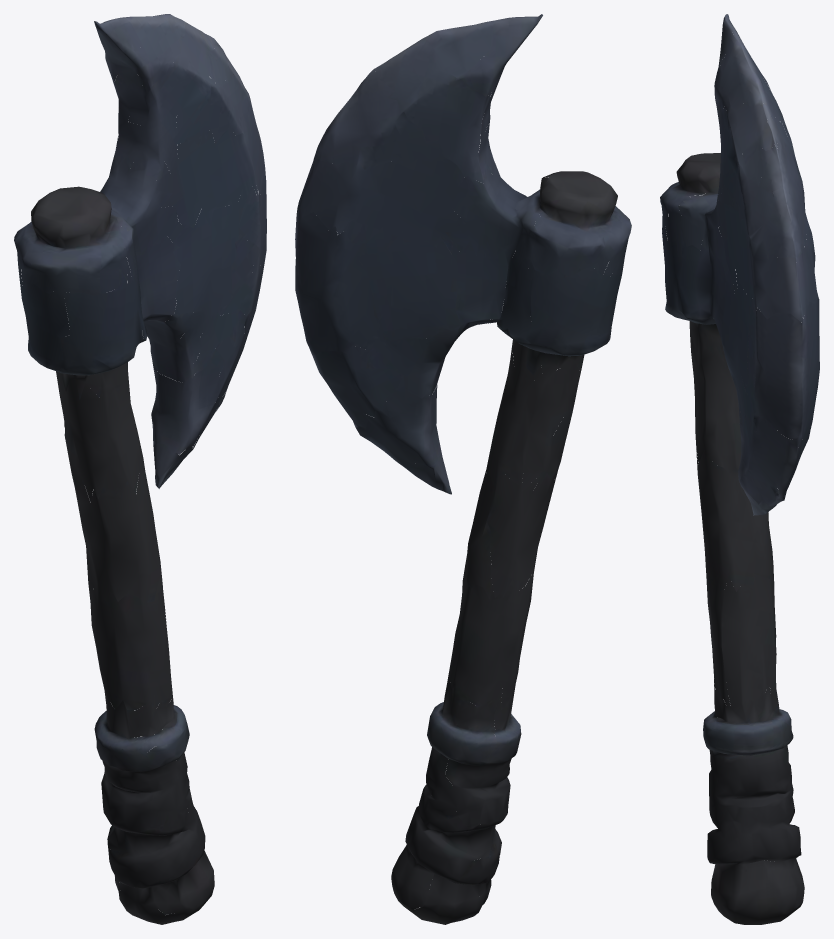
The model's file is Arm_executioner_axe-DJWZdZ8_.glb.
3 views of the same model, side by side, from view 1: azimuth 30°, elevation 25°; view 2: azimuth 150°, elevation 25°; view 3: azimuth 270°, elevation 25° (orthographic). The views are drawn at different scales.
Parts seen in each view (by area): view 1: Arm_executioner_axe; view 2: Arm_executioner_axe; view 3: Arm_executioner_axe.
Part boxes in pixels (x1=…): Arm_executioner_axe: x1=14, y1=14, x2=266, y2=924; Arm_executioner_axe: x1=295, y1=14, x2=631, y2=924; Arm_executioner_axe: x1=660, y1=14, x2=819, y2=924.
Bounding box in the file's own units: 0.54 × 1.65 × 0.2758.
1 material, 1 textured.
